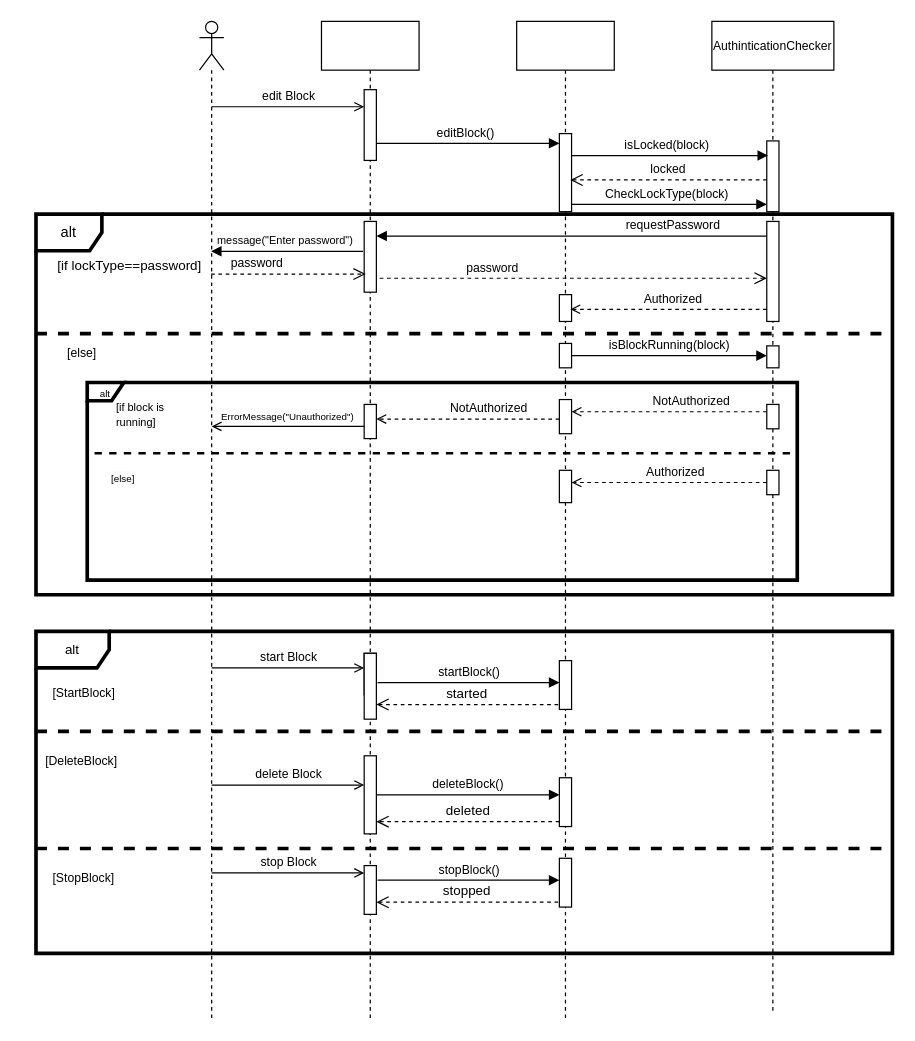
This 915x1041 diagram has some shape labels left out. The shapes that lost their labels are listed below. From the top down, each one's box as (x1, y1, x2, y2) in pixels, then its label:
(320, 20, 419, 1019): GUI
(515, 20, 614, 1019): Block
